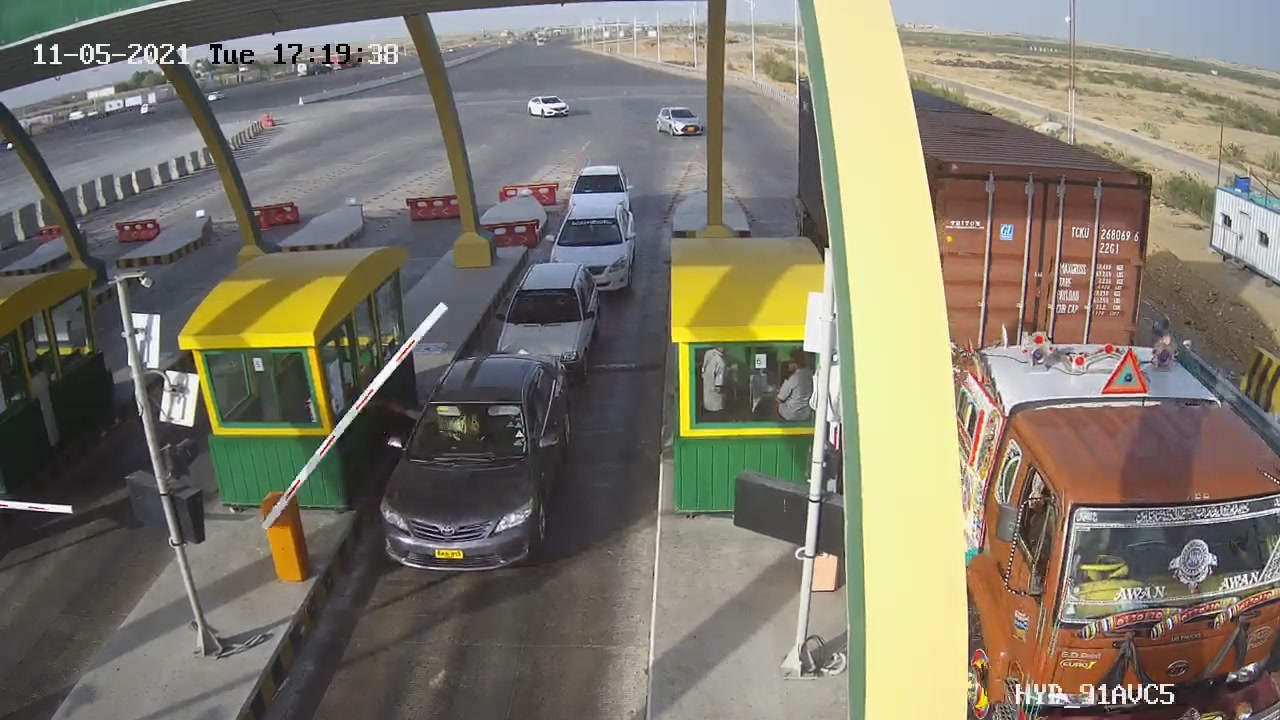F1: (363, 343, 595, 587), (476, 255, 614, 386)
